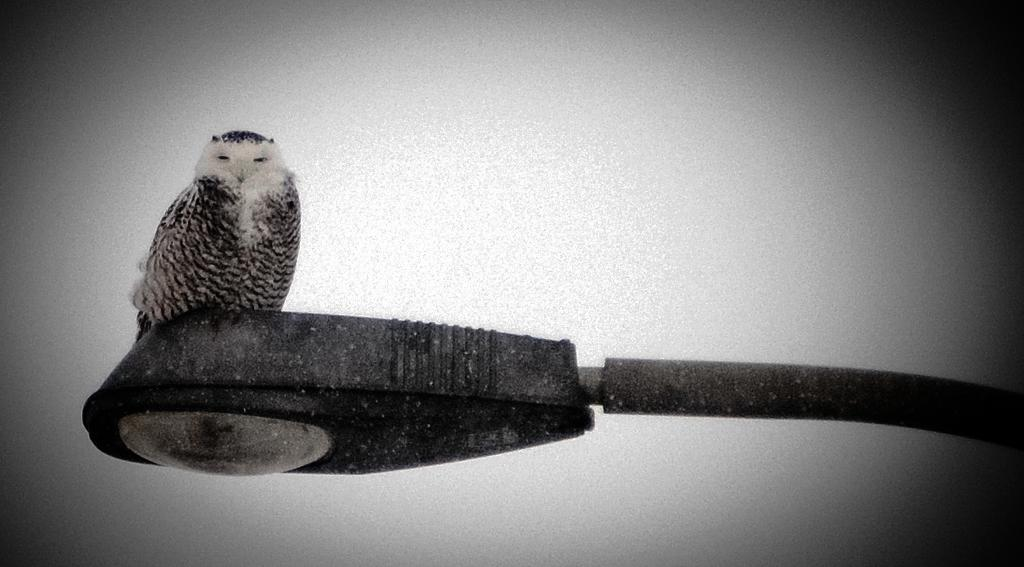Owl: (133, 125, 303, 336)
